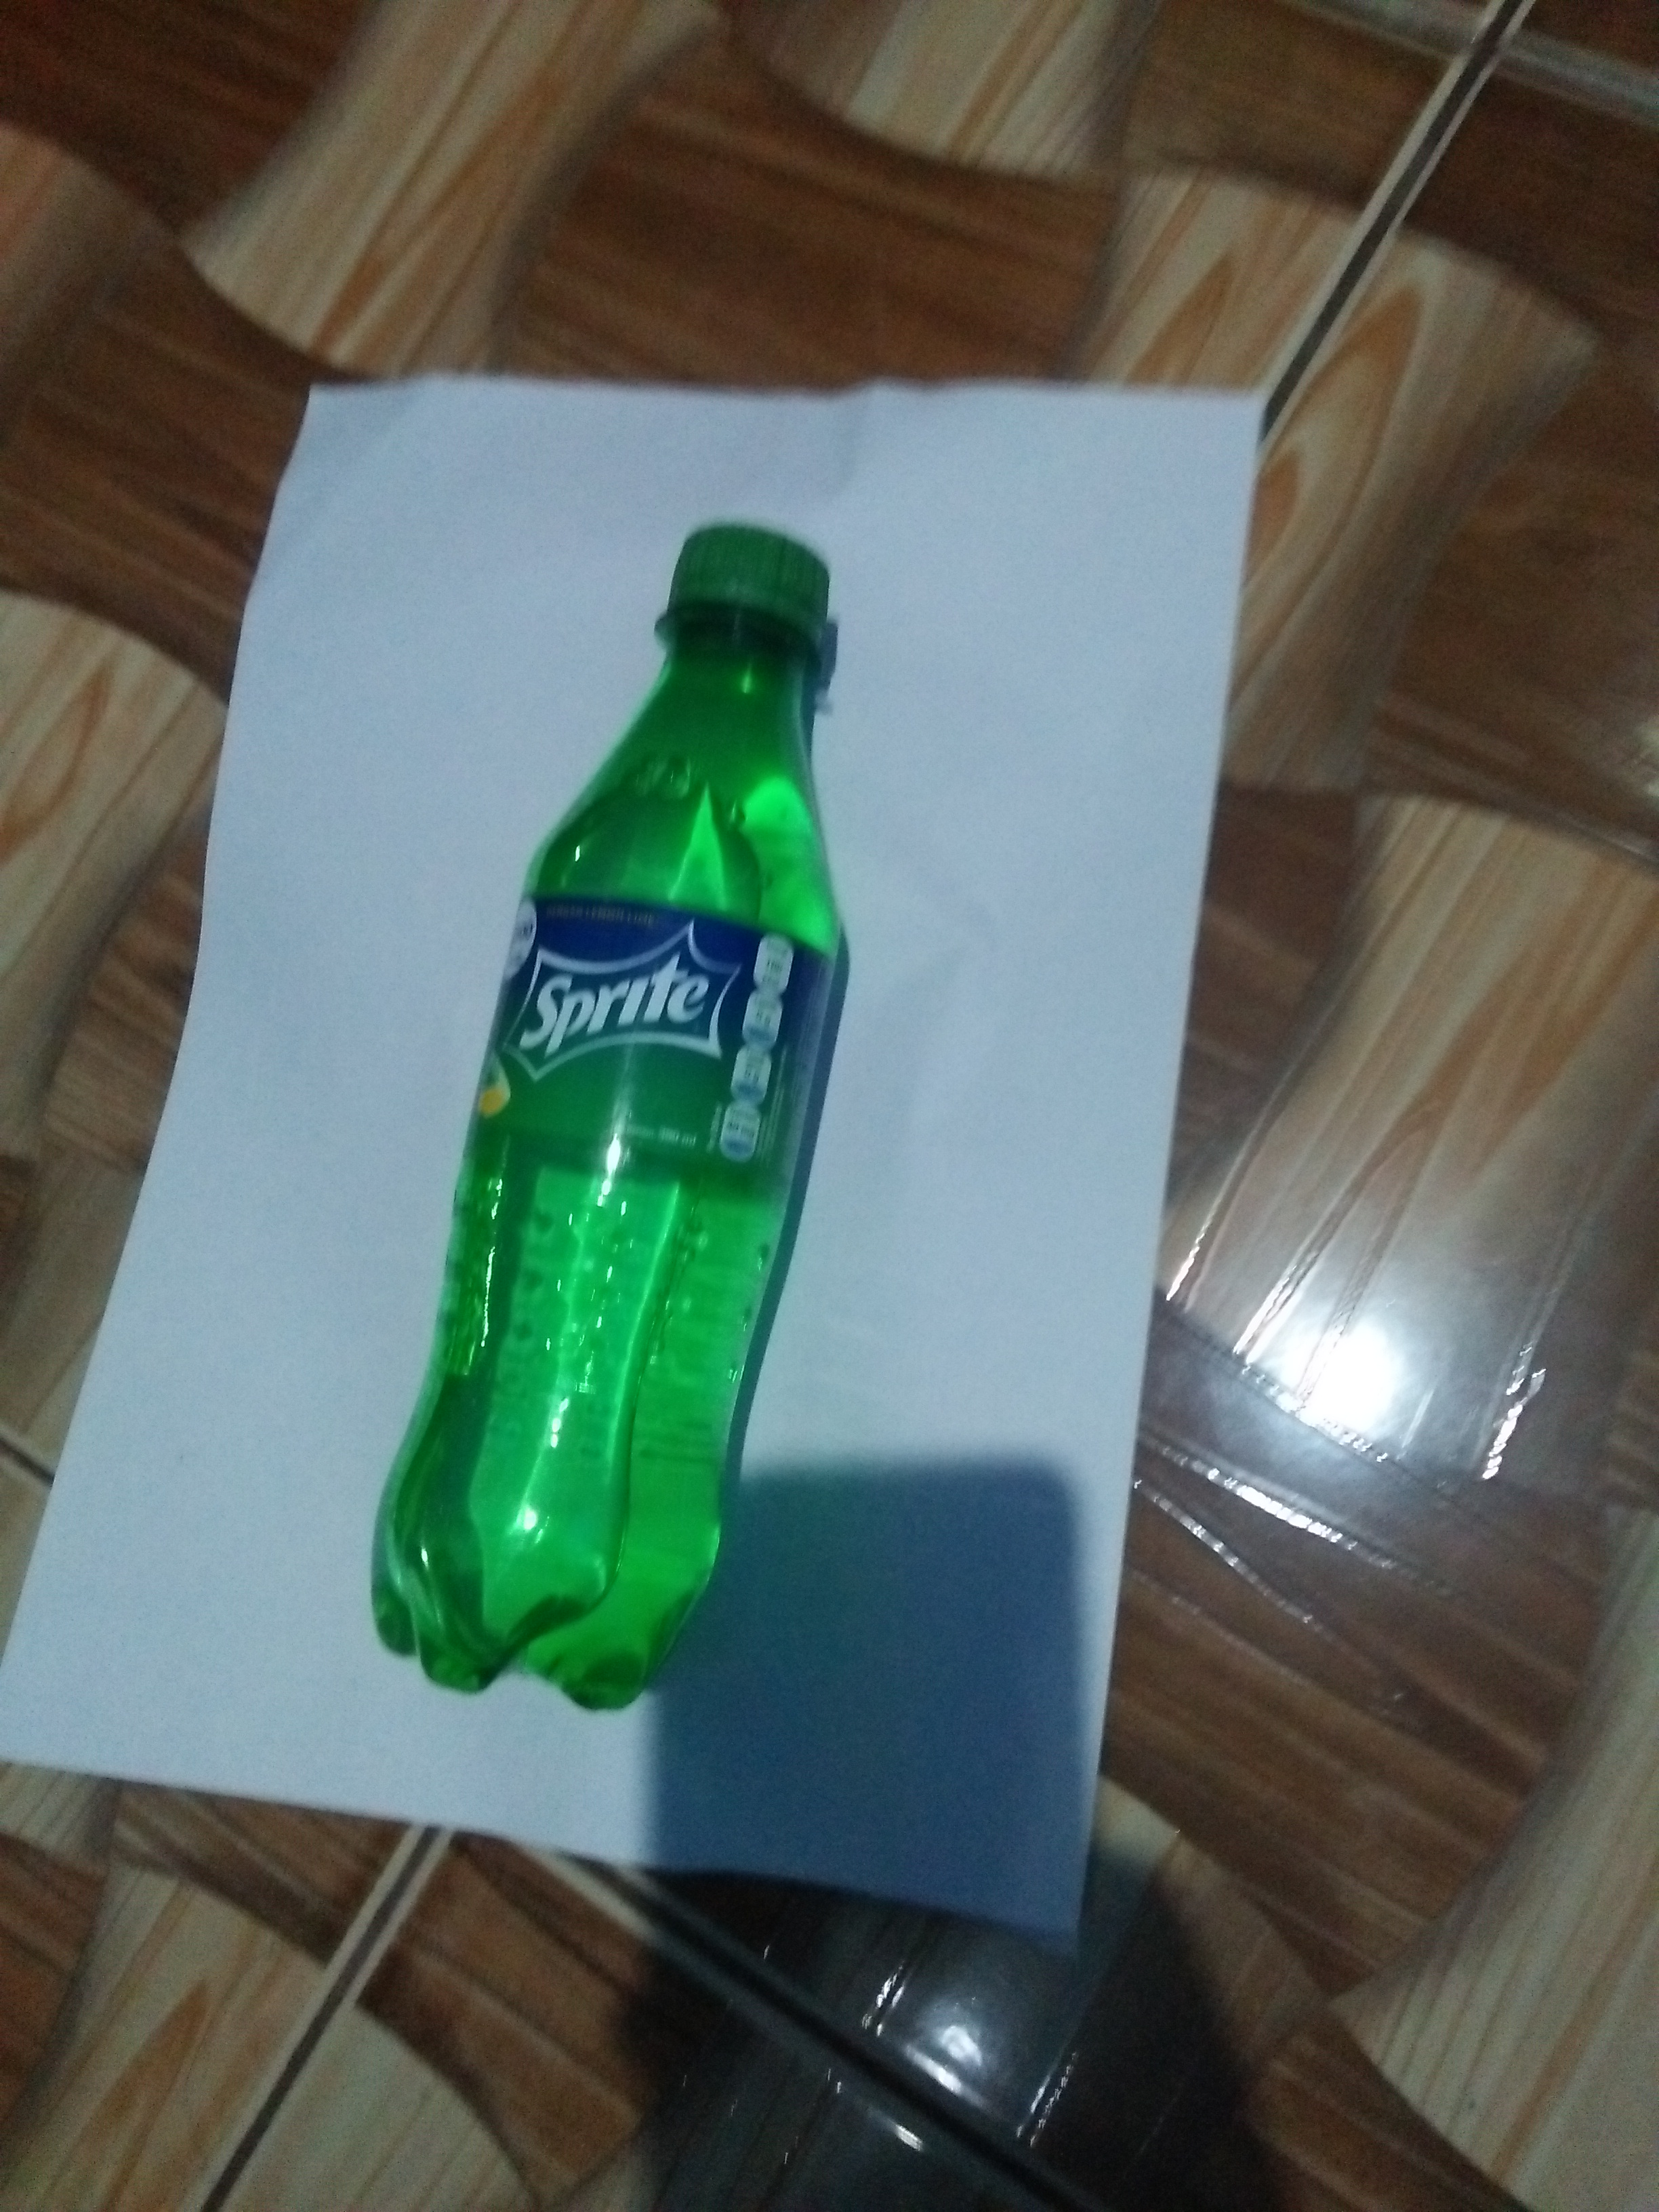Sprite: (366, 528, 854, 1716)
